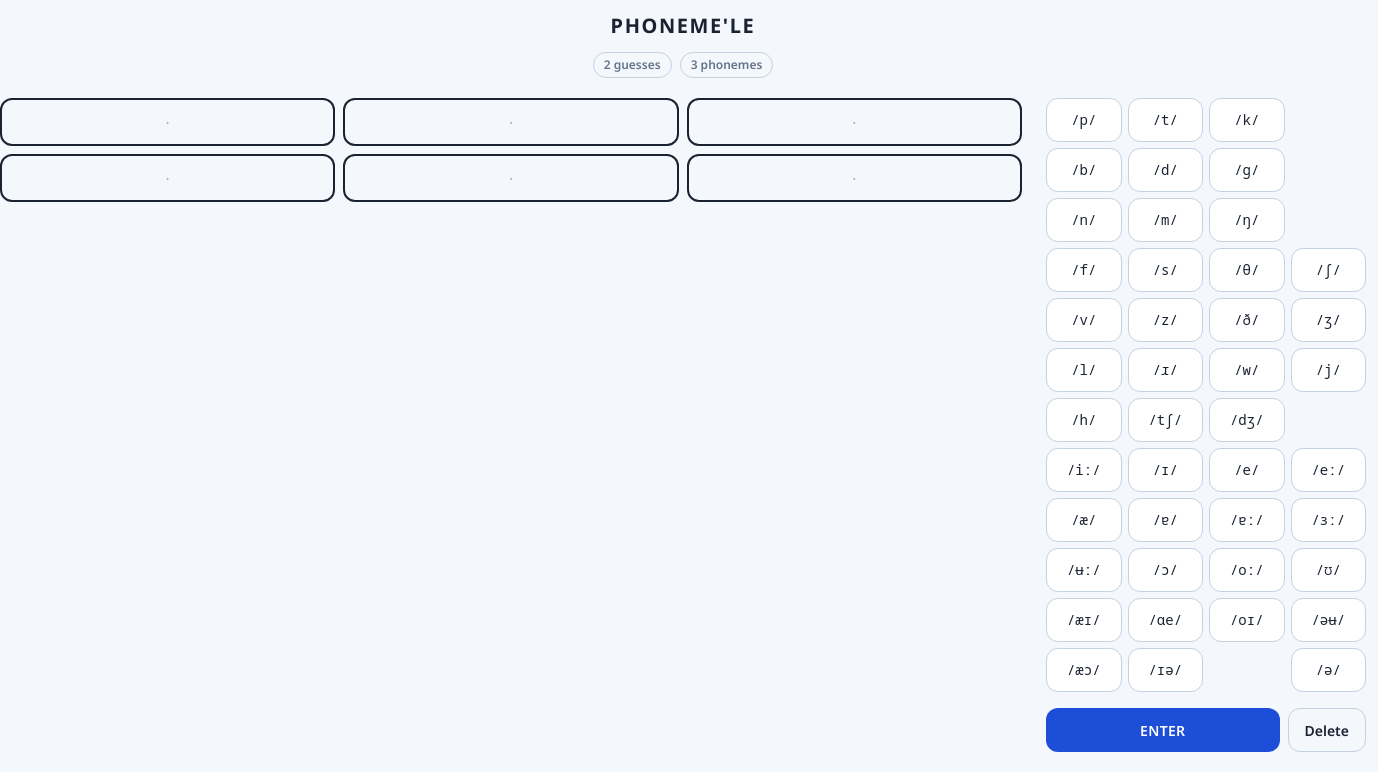
Test: Wordle components › plays a winning game and locks its controls
The image size is (1378, 772).
Click the button "/θ/" at (1247, 270), box [1209,248,1284,292]
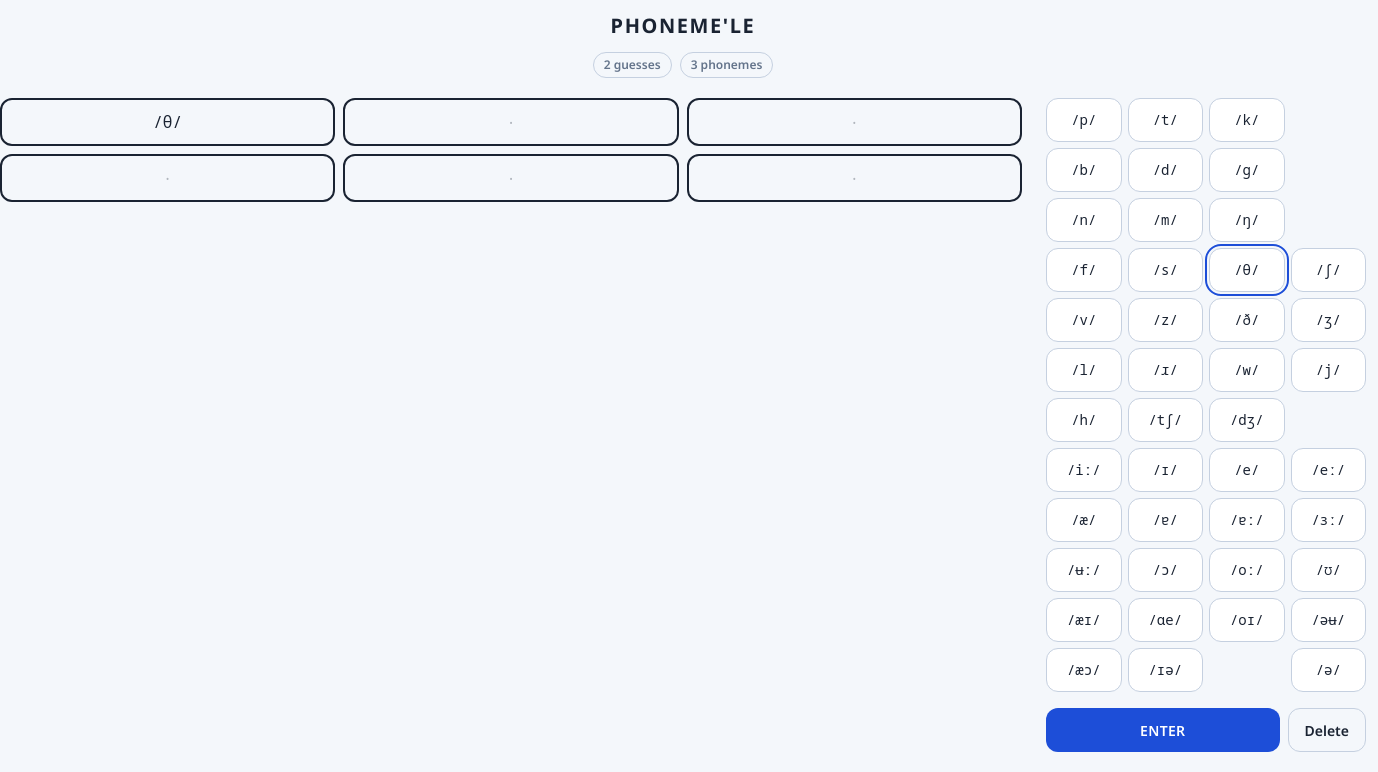
Click the button "/ɪ/" at (1165, 470), box [1128,448,1203,492]
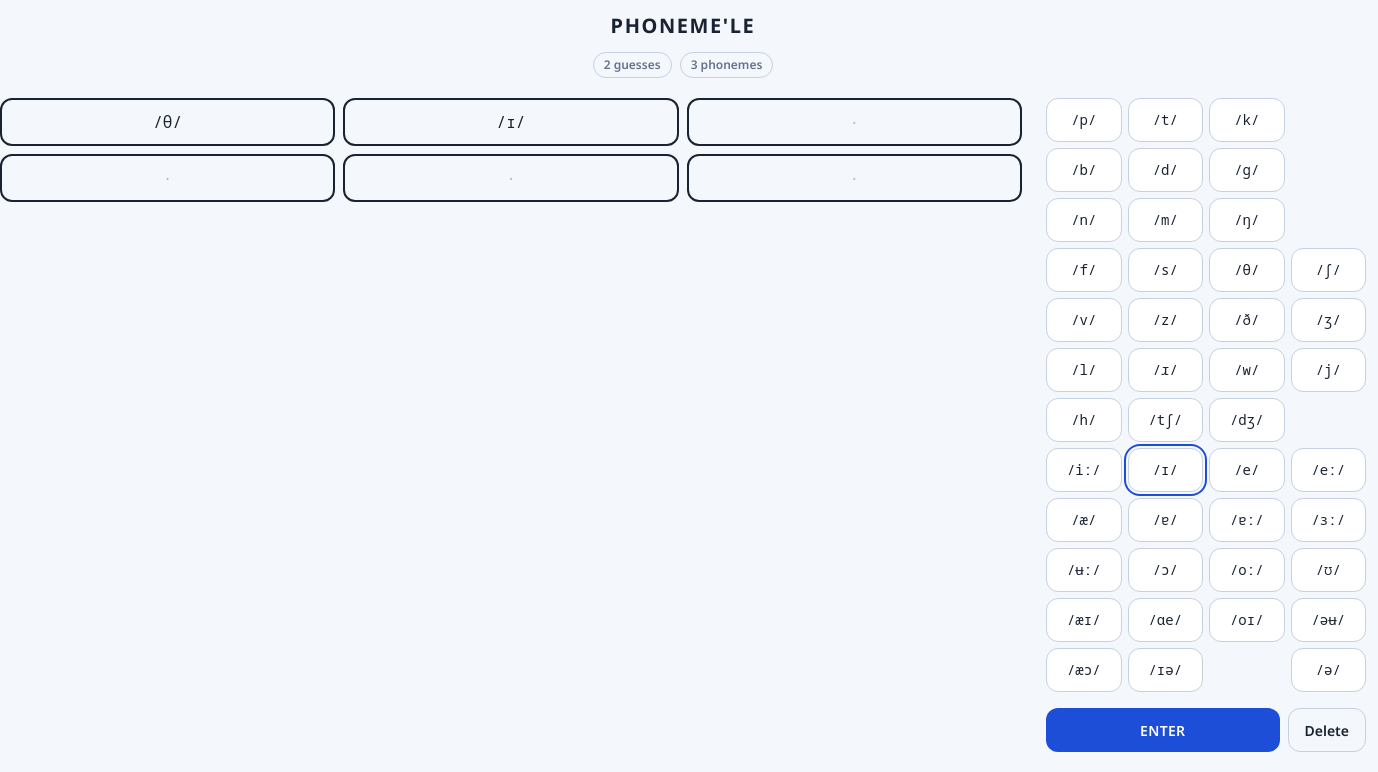
Click the button "/n/" at (1084, 220), box [1046,198,1122,242]
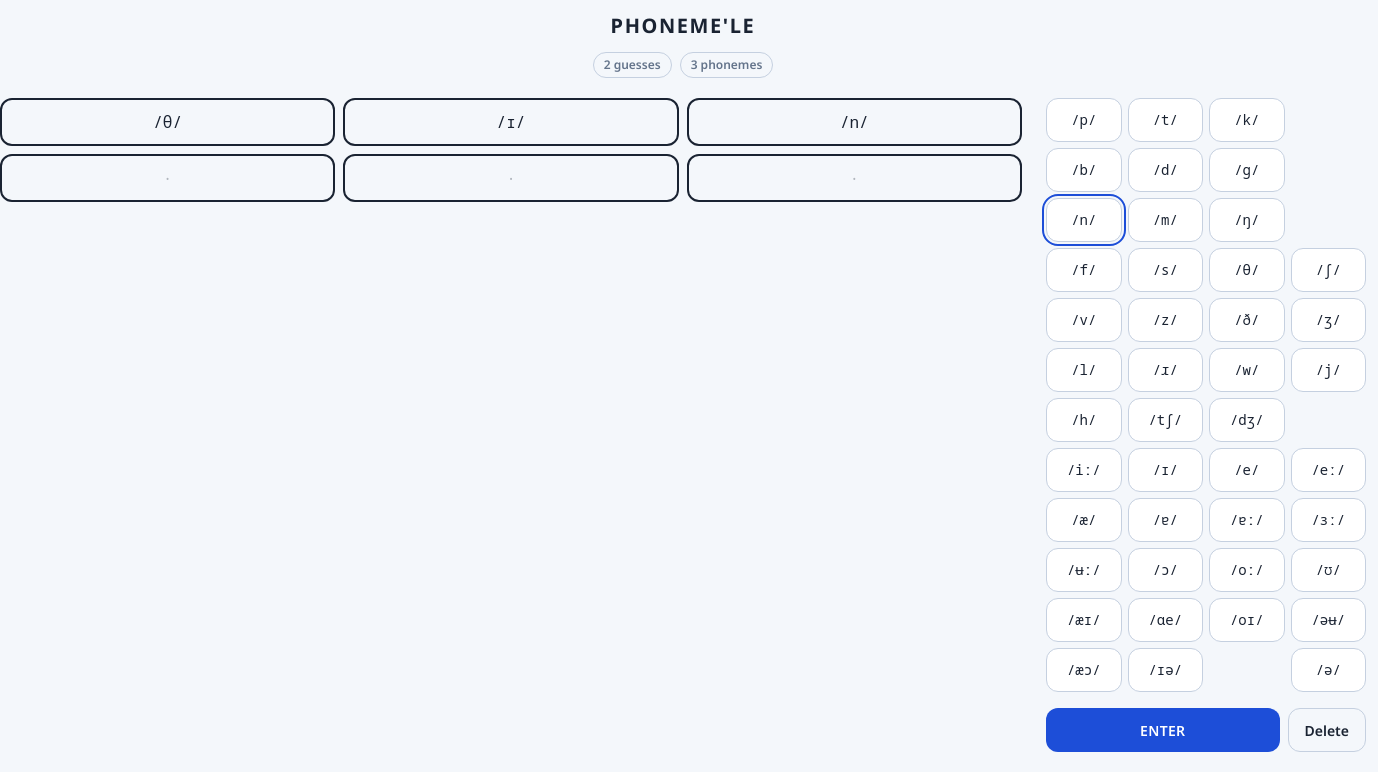
Click the button "Enter" at (1163, 730), box [1046,708,1280,752]
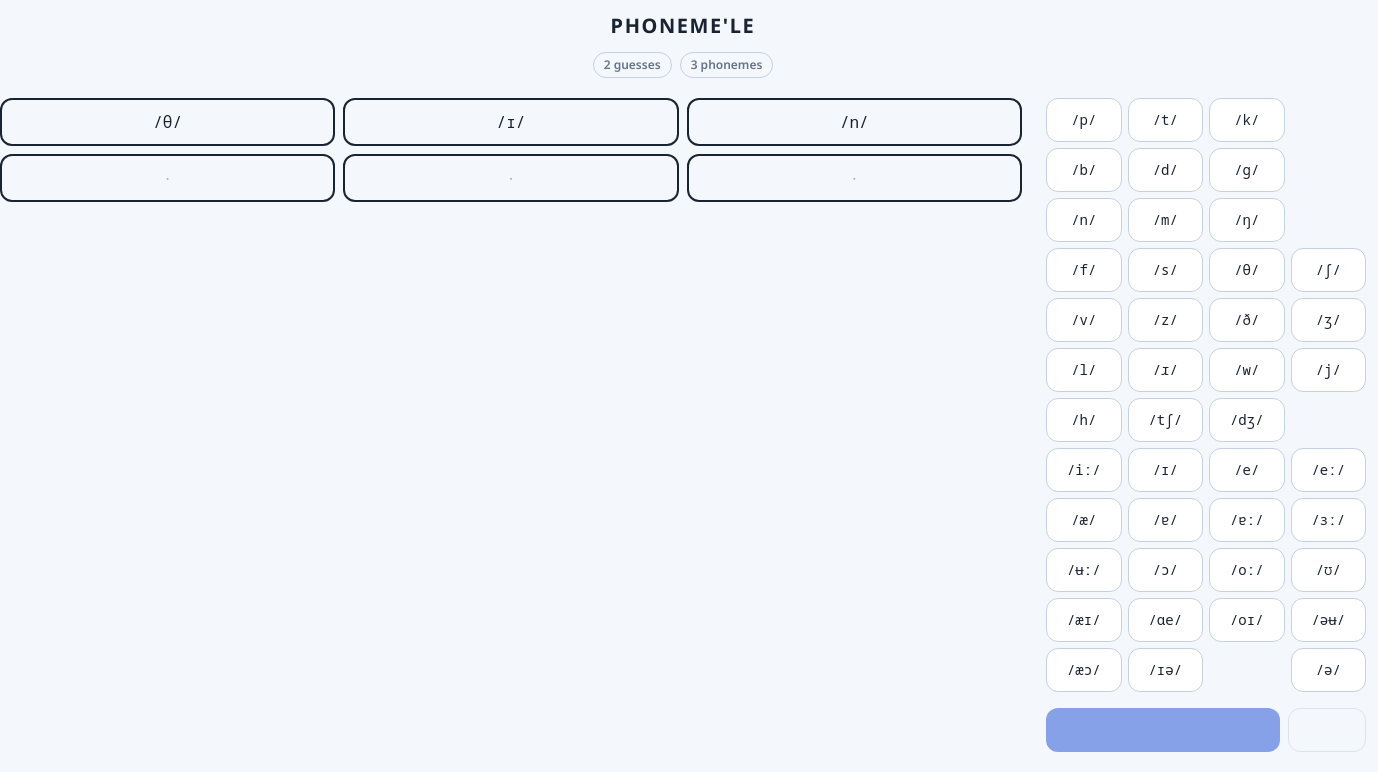
Now the button "Enter" is disabled, box [1046,708,1280,752]
